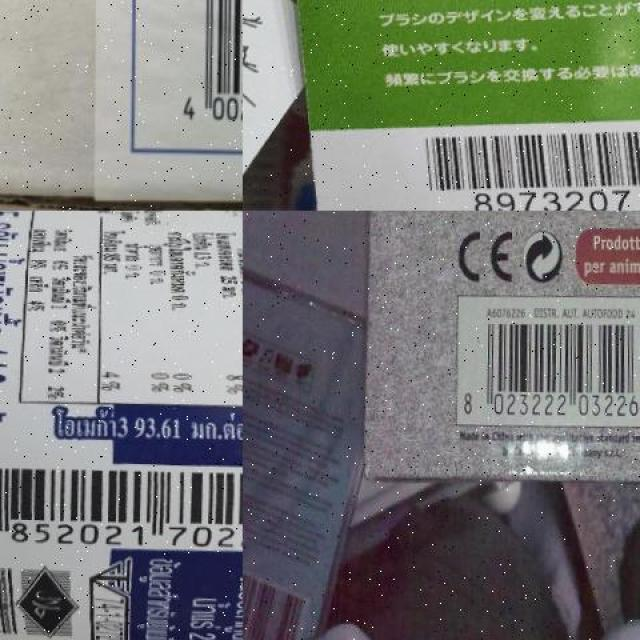Barcode: (456, 286, 640, 426), (402, 106, 640, 210), (0, 453, 243, 548), (173, 0, 242, 137)
